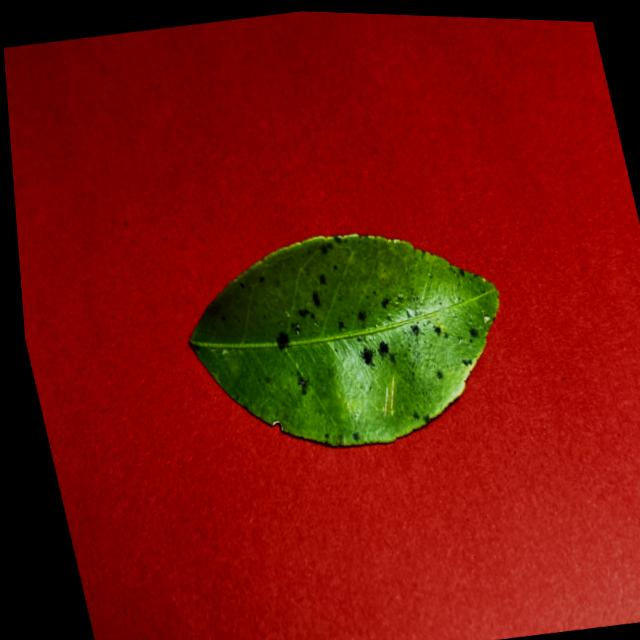sooty_mold: (189, 233, 498, 445)
